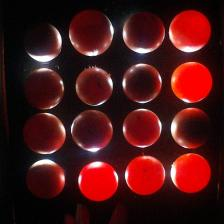fertile: (68, 8, 114, 57), (121, 10, 166, 56), (22, 112, 67, 156), (70, 108, 114, 152), (22, 68, 64, 110), (170, 107, 211, 150), (122, 63, 162, 104), (26, 159, 66, 200), (122, 109, 162, 149), (24, 22, 63, 63), (75, 67, 113, 107)
infertile: (167, 7, 213, 54), (167, 60, 214, 104), (124, 154, 166, 198), (170, 152, 212, 195), (78, 161, 118, 202)
